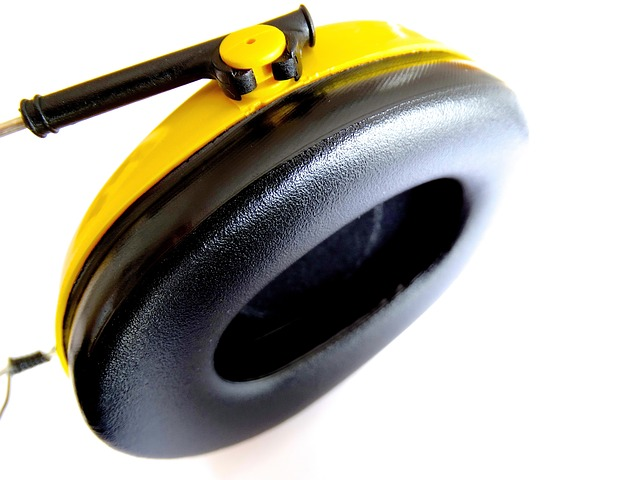headphones: (1, 5, 530, 459)
